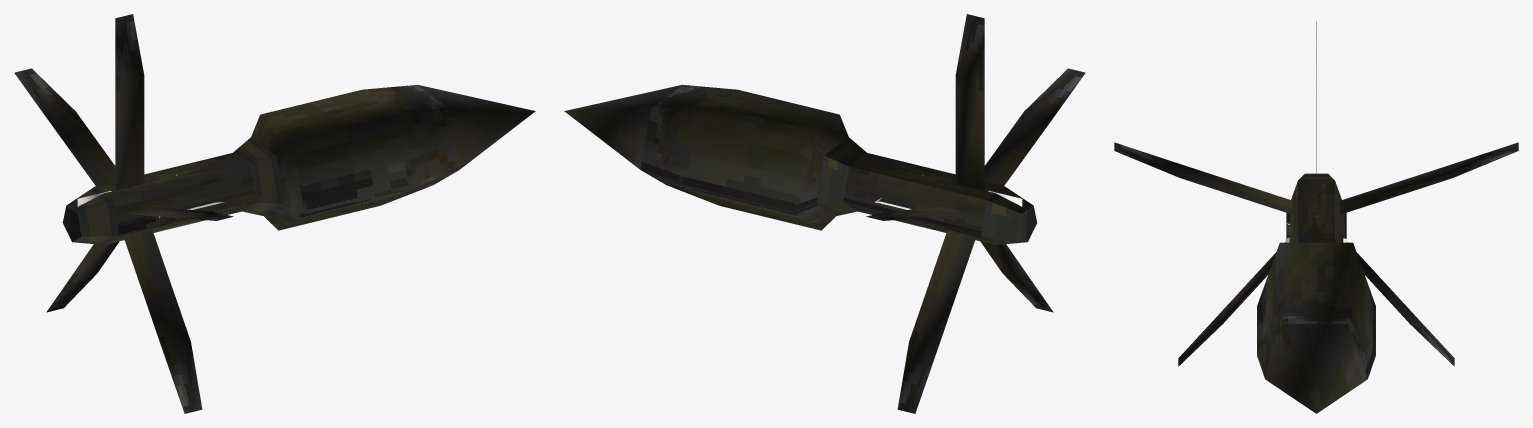
File: rocket.glb
The picture shows the model from 3 angles, left to right: view 1: azimuth 30°, elevation 25°; view 2: azimuth 150°, elevation 25°; view 3: azimuth 270°, elevation 25°; orthographic projection.
Parts seen in each view (by area): view 1: weapons/rocket_2; view 2: weapons/rocket_2; view 3: weapons/rocket_2.
Boxes of the visible parts, left/top/right/bottom form: weapons/rocket_2: left=14, top=14, right=535, bottom=413; weapons/rocket_2: left=564, top=14, right=1085, bottom=413; weapons/rocket_2: left=1114, top=21, right=1518, bottom=413.
Size of what is drawn, in the model's own units: 2 by 1.42 by 1.51.
2 materials, 1 textured.
